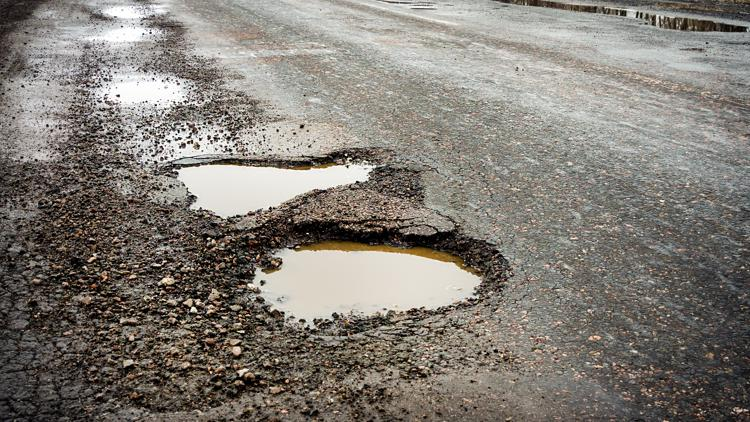Hole_in_the_road: (151, 136, 533, 331)
